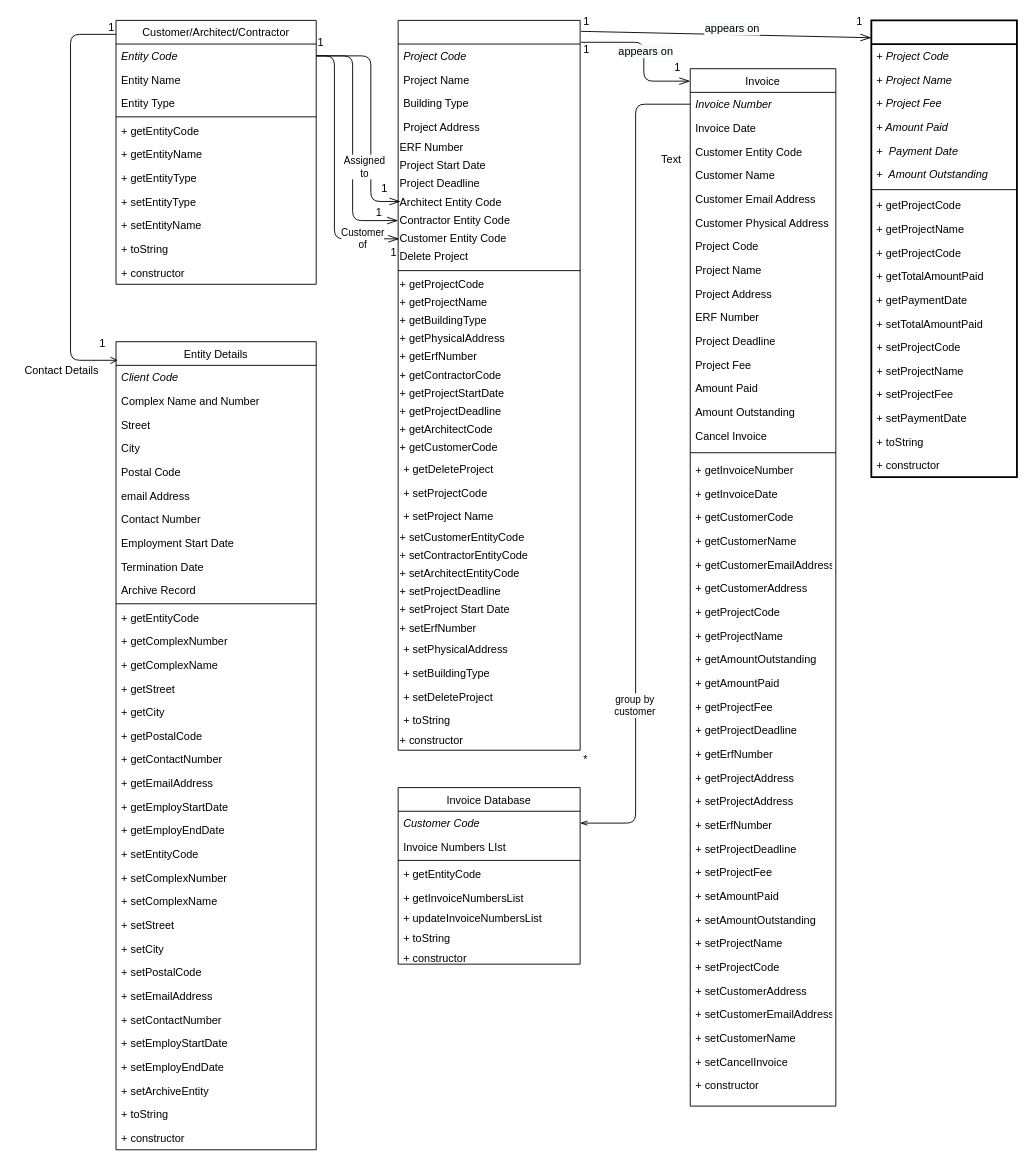
This 1033x1168 diagram has some shape labels left out. The shapes that lost their labels are listed below. From the top down, each one's box as (x1, y1, x2, y2) in pixels, then its label:
(870, 19, 1017, 478): ProjectFinance
(397, 19, 580, 750): ProjectInfo
